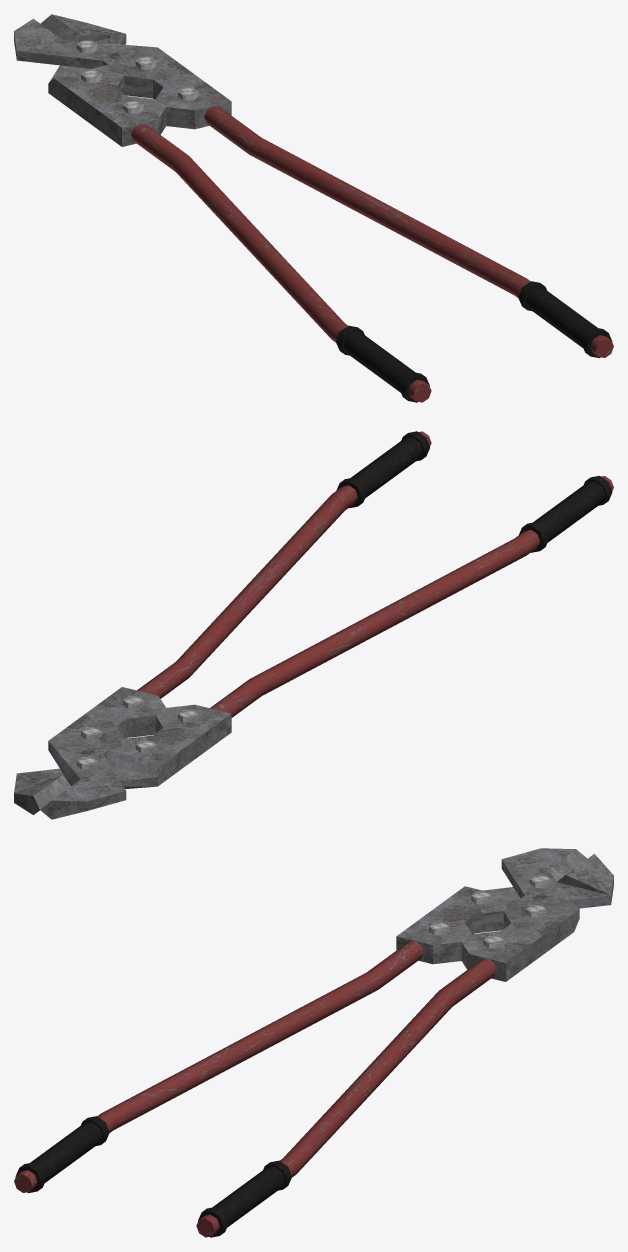
File: BoltCutters.fbx
3 views of the same model, one above another, from view 1: azimuth 30°, elevation 25°; view 2: azimuth 150°, elevation 25°; view 3: azimuth 330°, elevation 25° (orthographic).
Visible parts, largest first — view 1: Cube.005, Cube.004; view 2: Cube.004, Cube.005; view 3: Cube.005, Cube.004.
Part boxes in pixels (box(x1,y1,x2,y2)): Cube.005: box(14, 19, 613, 358); Cube.004: box(40, 14, 431, 402); Cube.004: box(14, 475, 613, 814); Cube.005: box(40, 431, 431, 819); Cube.005: box(196, 848, 587, 1237); Cube.004: box(14, 854, 613, 1192).
Size of the model in its own units: 114 by 15 by 450.
